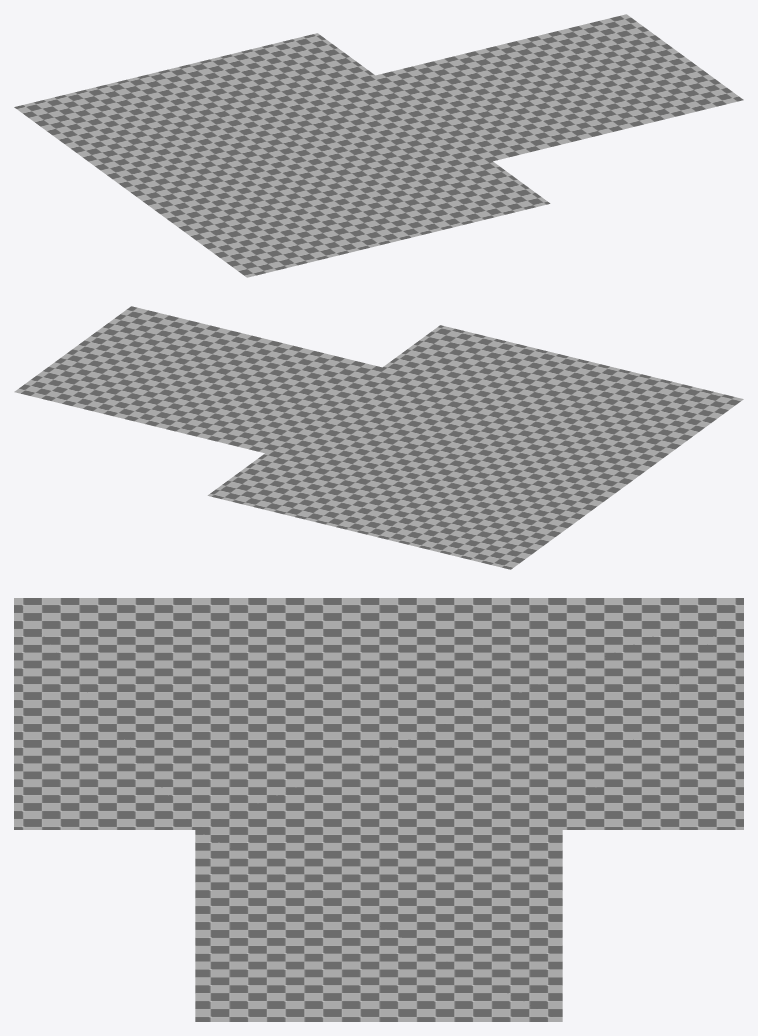
File: 2f地板_01.glb
The picture shows the model from 3 angles, top to bottom: view 1: azimuth 30°, elevation 25°; view 2: azimuth 150°, elevation 25°; view 3: azimuth 270°, elevation 25°; orthographic projection. The views are drawn at different scales.
Parts seen in each view (by area): view 1: 2f地板_01; view 2: 2f地板_01; view 3: 2f地板_01.
Part boxes in pixels (<box>): 2f地板_01: <box>14,14,743,277</box>; 2f地板_01: <box>14,306,743,569</box>; 2f地板_01: <box>14,598,743,1021</box>.
Size of the model in its own units: 5351 by 0.00131 by 3894.
Materials: 1 (1 with a texture image).
